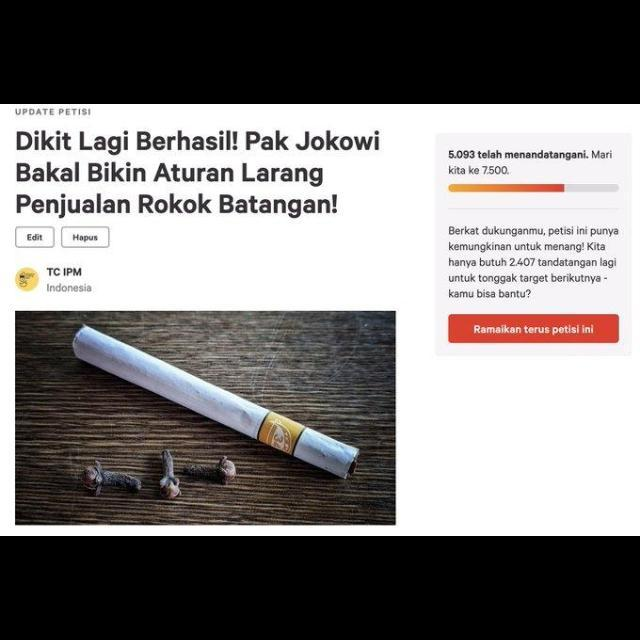rokok: (68, 322, 360, 482)
